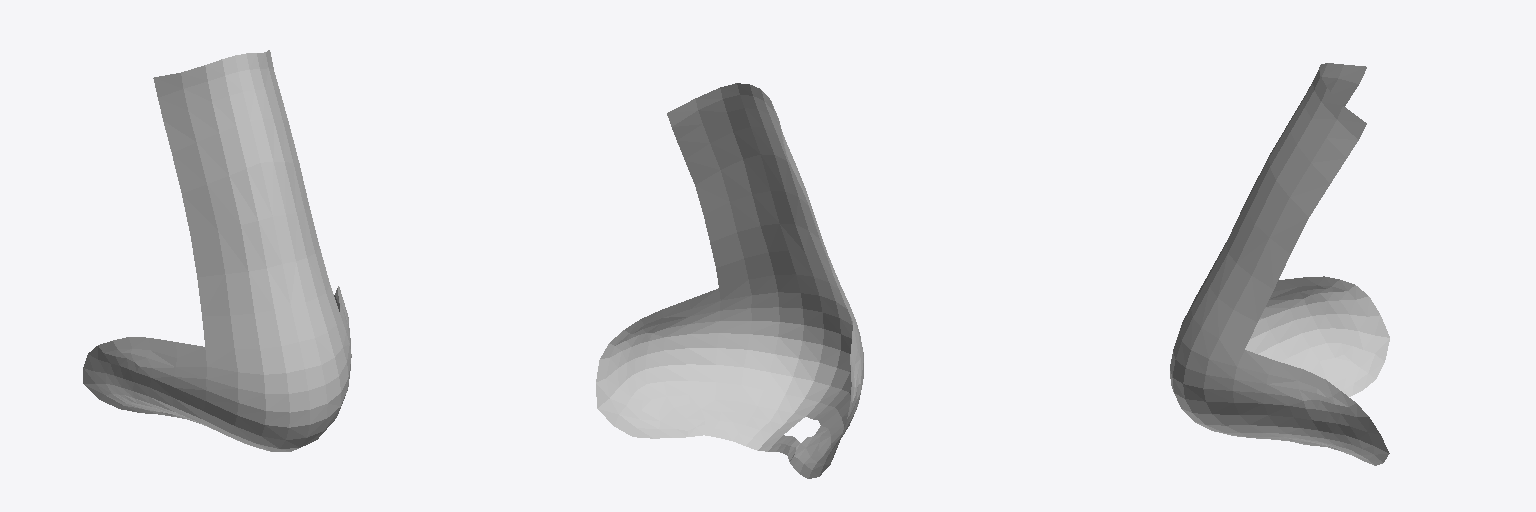
File: euro-fem-nostril-tilt-down.obj
3 views of the same model, side by side, from view 1: azimuth 30°, elevation 25°; view 2: azimuth 150°, elevation 25°; view 3: azimuth 270°, elevation 25° (orthographic).
Parts seen in each view (by area): view 1: euro-fem-nostril-d.001; view 2: euro-fem-nostril-d.001; view 3: euro-fem-nostril-d.001.
Part boxes in pixels (left/top/right/bottom): euro-fem-nostril-d.001: left=83, top=50, right=351, bottom=451; euro-fem-nostril-d.001: left=596, top=83, right=863, bottom=478; euro-fem-nostril-d.001: left=1170, top=63, right=1389, bottom=465.
Bounding box in the file's own units: 0.2243 × 0.3231 × 0.1732.